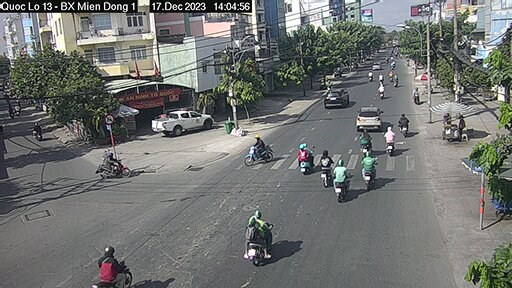car: (154, 111, 218, 136), (356, 106, 386, 131), (324, 87, 352, 110)
motorbike: (88, 245, 136, 288), (243, 211, 274, 258), (98, 150, 137, 186), (244, 135, 274, 167), (333, 155, 353, 202), (358, 156, 379, 191), (357, 129, 375, 159), (296, 143, 313, 173), (395, 109, 412, 138), (383, 129, 400, 157), (320, 150, 333, 185)
